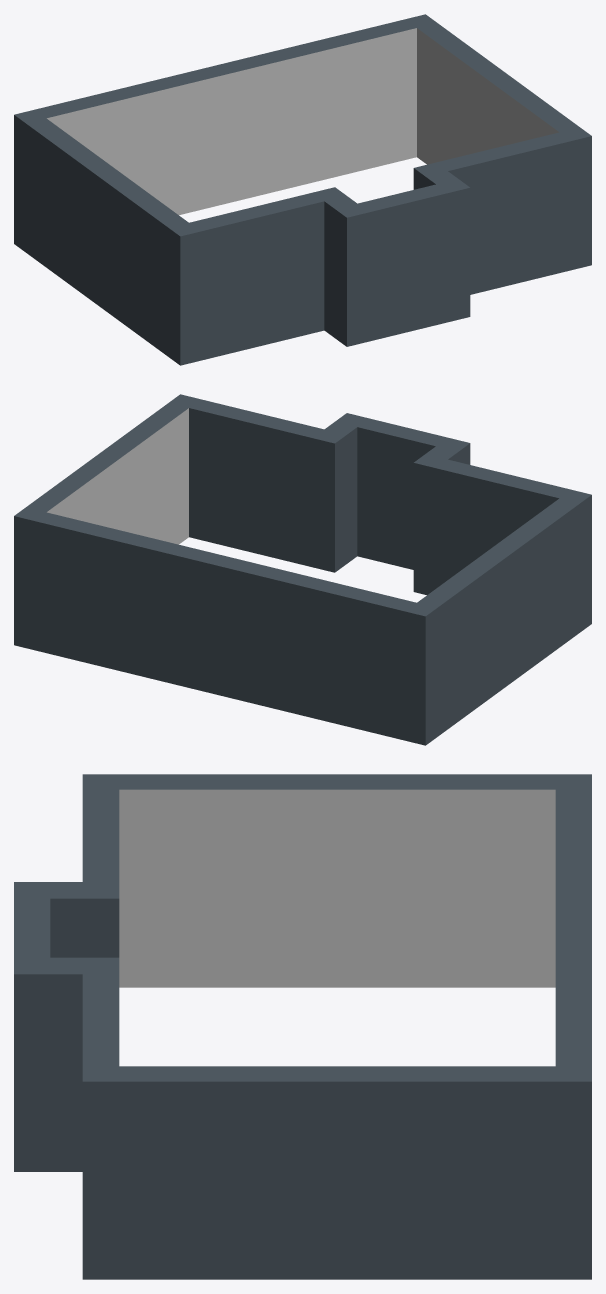
File: Room03_col.FBX
3 renders of one model, top to bottom at view 1: azimuth 30°, elevation 25°; view 2: azimuth 150°, elevation 25°; view 3: azimuth 270°, elevation 25°, orthographic. The views are drawn at different scales.
Parts seen in each view (by area): view 1: Room03_col; view 2: Room03_col; view 3: Room03_col.
Part boxes in pixels (box(x1,y1,x2,y2)): Room03_col: box(14, 14, 591, 365); Room03_col: box(14, 394, 591, 745); Room03_col: box(14, 774, 591, 1279).
Size of the model in its own units: 1000 by 300 by 795.
